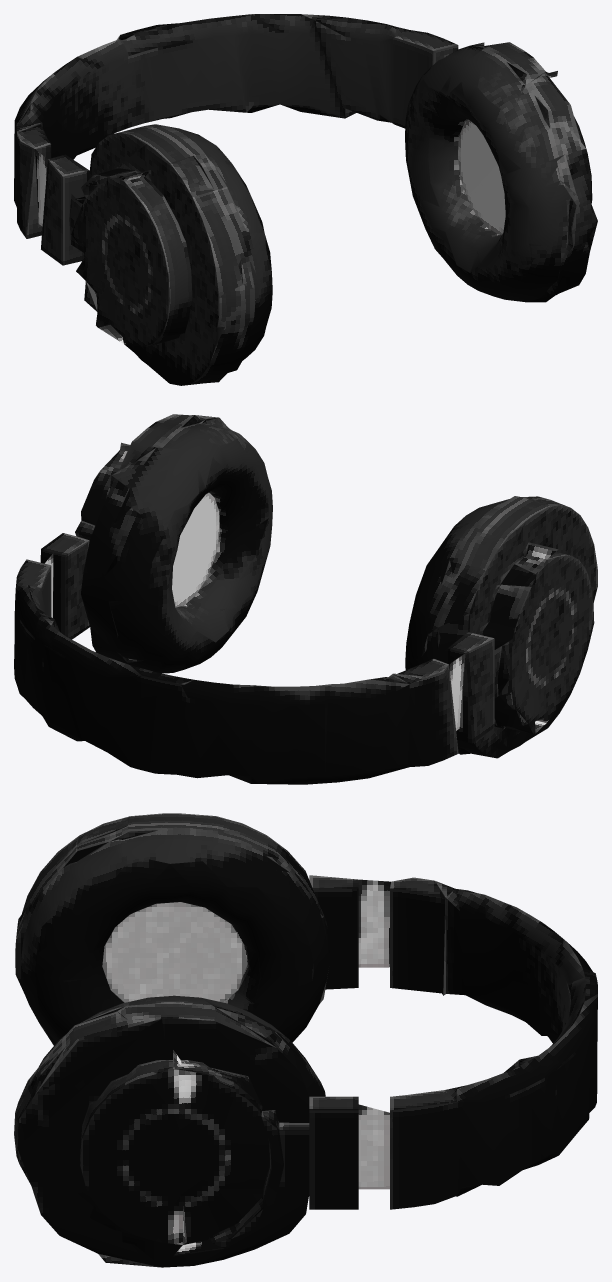
The model's file is wear_headphones.glb.
3 renders of one model, top to bottom at view 1: azimuth 30°, elevation 25°; view 2: azimuth 150°, elevation 25°; view 3: azimuth 270°, elevation 25°, orthographic. The views are drawn at different scales.
Visible parts, largest first — view 1: mesh; view 2: mesh; view 3: mesh.
Part boxes in pixels (<box>): mesh: <box>14,14,597,385</box>; mesh: <box>14,414,597,784</box>; mesh: <box>14,813,597,1267</box>.
Size of the model in its own units: 0.3985 by 0.2 by 0.4126.
1 material, 1 textured.
